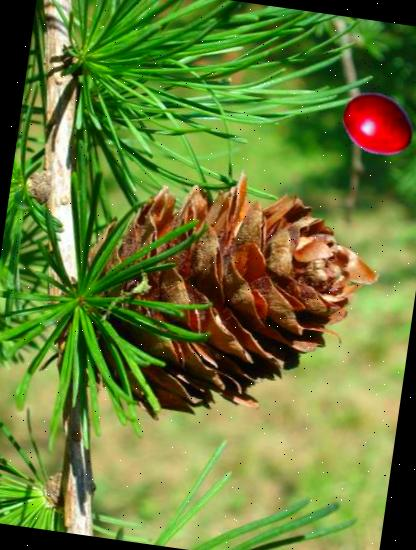Tamarillo: (328, 75, 416, 169)
